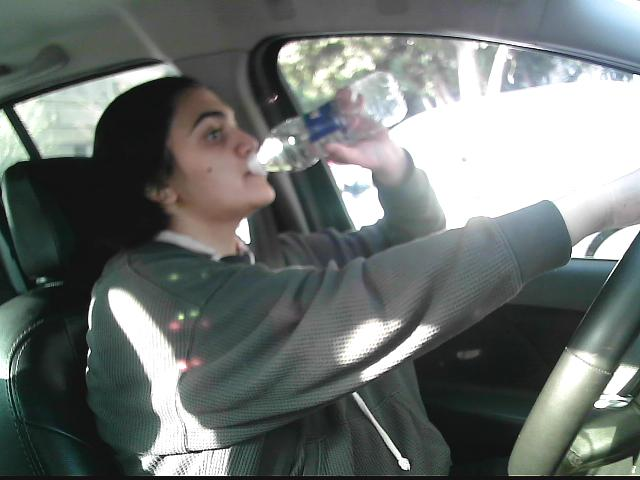Drinking: (143, 54, 407, 210)
